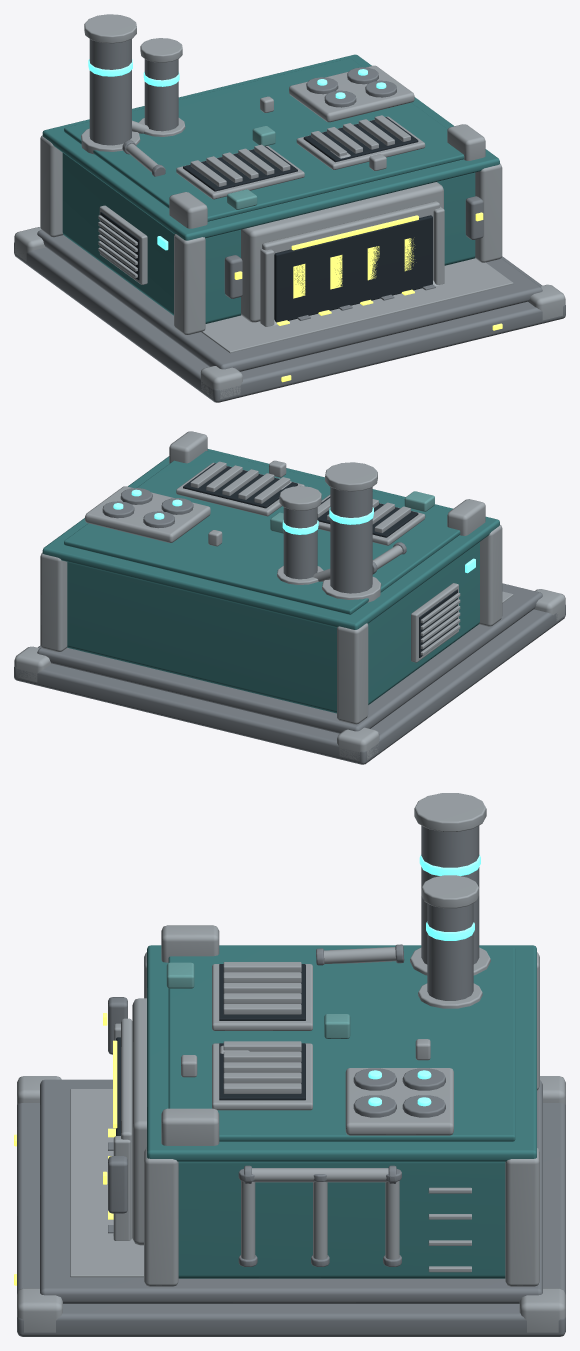
Rendered from meridian-factory.glb.
The picture shows the model from 3 angles, top to bottom: view 1: azimuth 30°, elevation 25°; view 2: azimuth 150°, elevation 25°; view 3: azimuth 270°, elevation 25°; orthographic projection. The views are drawn at different scales.
Visible parts, largest first — view 1: FactoryBodyMesh; view 2: FactoryBodyMesh; view 3: FactoryBodyMesh.
Part boxes in pixels (x1,y1,x2,y2): FactoryBodyMesh: (14, 14, 565, 402); FactoryBodyMesh: (14, 431, 565, 764); FactoryBodyMesh: (14, 793, 565, 1336).
Bounding box in the file's own units: 3.8 × 2.59 × 3.82.
